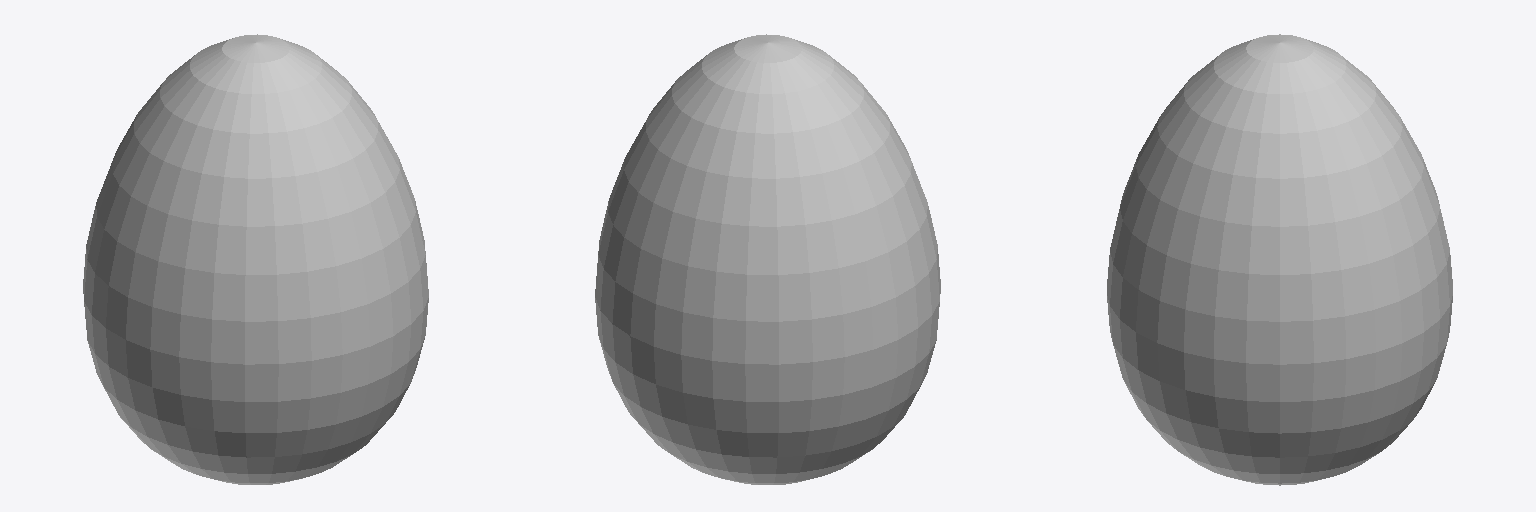
The model's file is huevo1.obj.
3 views of the same model, side by side, from view 1: azimuth 30°, elevation 25°; view 2: azimuth 150°, elevation 25°; view 3: azimuth 270°, elevation 25° (orthographic).
Visible parts, largest first — view 1: Egg08_Mat08_0.001; view 2: Egg08_Mat08_0.001; view 3: Egg08_Mat08_0.001.
Part boxes in pixels (left/top/right/bottom): Egg08_Mat08_0.001: left=83, top=34, right=428, bottom=484; Egg08_Mat08_0.001: left=595, top=34, right=940, bottom=484; Egg08_Mat08_0.001: left=1107, top=34, right=1452, bottom=485.
Bounding box in the file's own units: 2 × 2.72 × 2.